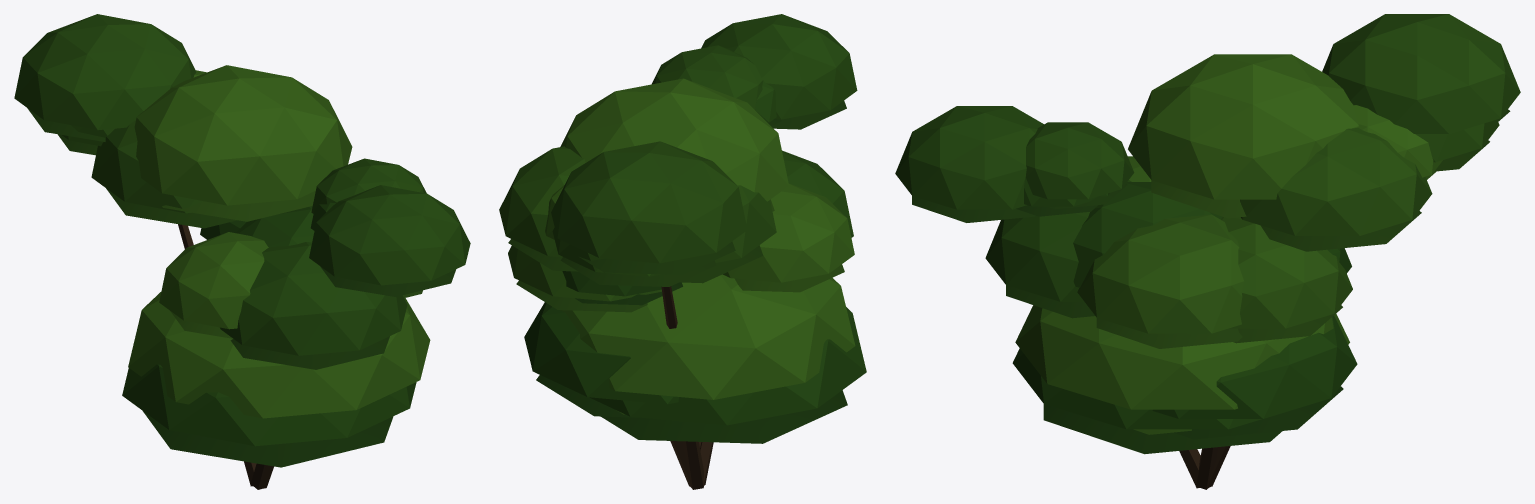
File: ground_shrub_1.glb
3 views of the same model, side by side, from view 1: azimuth 30°, elevation 25°; view 2: azimuth 150°, elevation 25°; view 3: azimuth 270°, elevation 25° (orthographic). The views are drawn at different scales.
Visible parts, largest first — view 1: leaf, wood; view 2: leaf, wood; view 3: leaf, wood.
Part boxes in pixels (x1=…): leaf: x1=14, y1=14, x2=470, y2=467; wood: x1=178, y1=224, x2=273, y2=489; leaf: x1=499, y1=14, x2=866, y2=443; wood: x1=661, y1=286, x2=713, y2=489; leaf: x1=895, y1=14, x2=1520, y2=454; wood: x1=1179, y1=446, x2=1230, y2=489.
Size of the model in its own units: 1.34 by 1.77 by 2.3.
